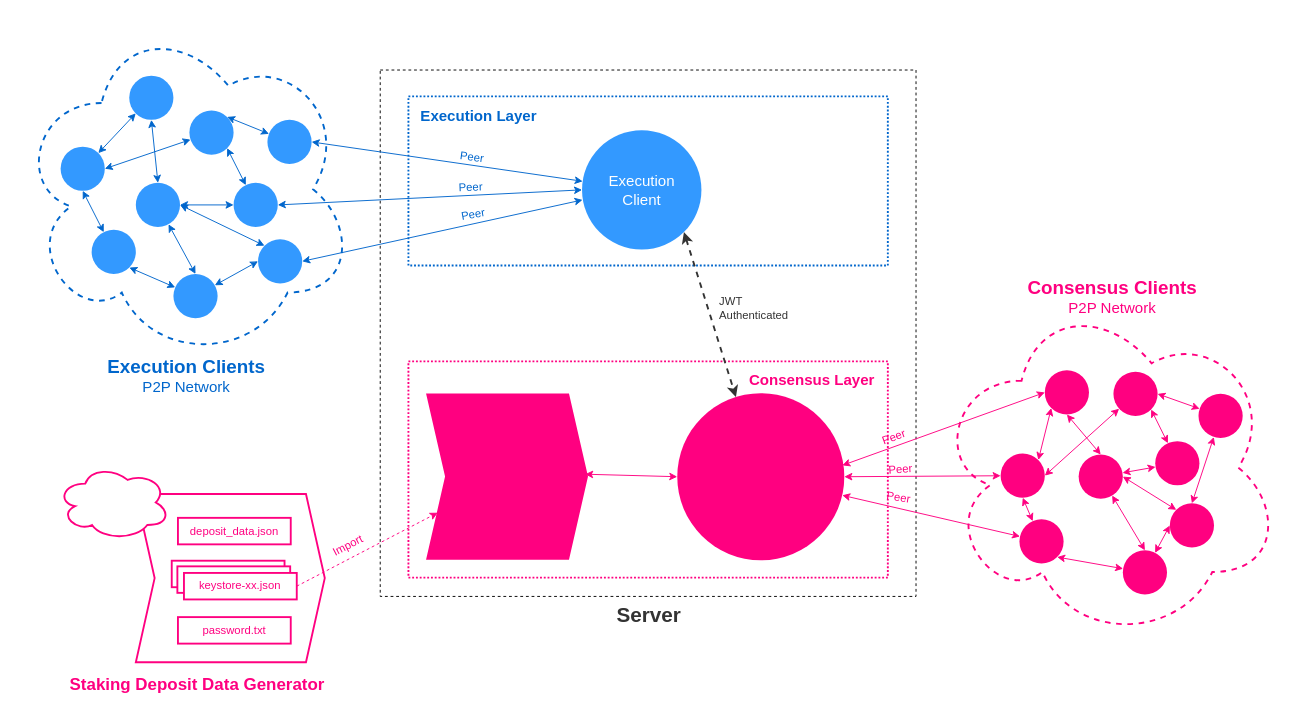
The diagram is 1299 pixels wide and 715 high, and some of its shapes have lost their labels. Each missing label, with the box of its shape:
Beacon Chain Node: (677, 393, 844, 560)
Mnemonic: (56, 463, 170, 540)
Validator: (426, 393, 588, 559)
